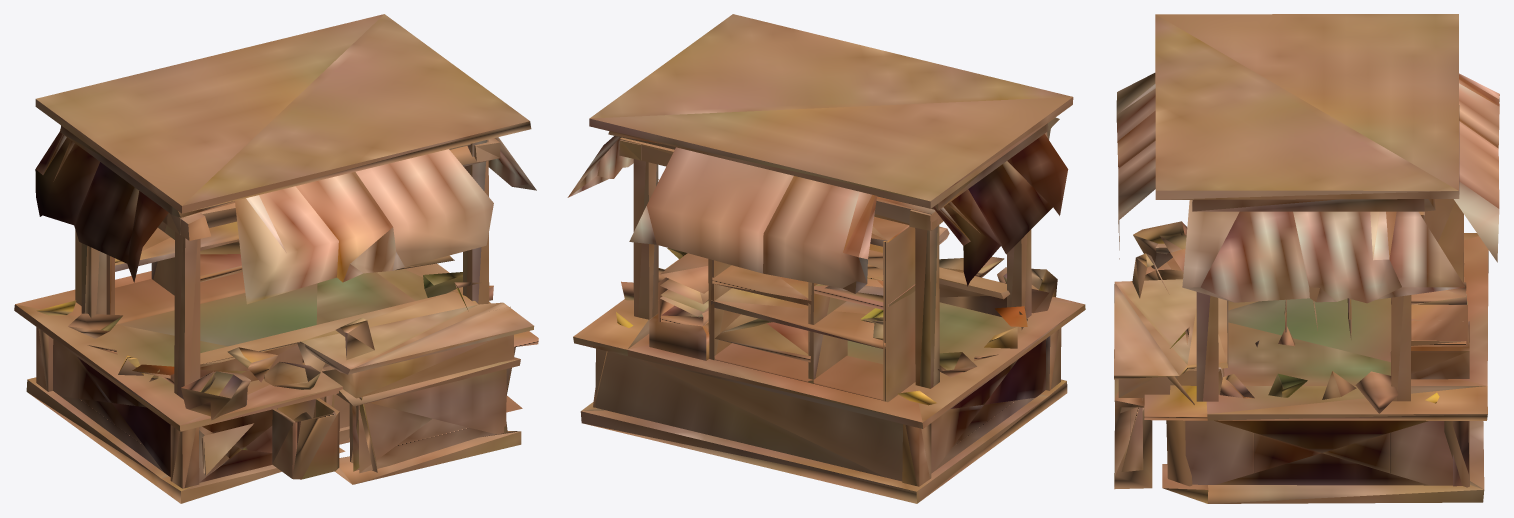
The model's file is market-stall.lod2.glb.
The picture shows the model from 3 angles, left to right: view 1: azimuth 30°, elevation 25°; view 2: azimuth 150°, elevation 25°; view 3: azimuth 270°, elevation 25°; orthographic projection. The views are drawn at different scales.
Size of the model in its own units: 2.4 by 1.81 by 2.01.
Materials: 1 (1 with a texture image).
